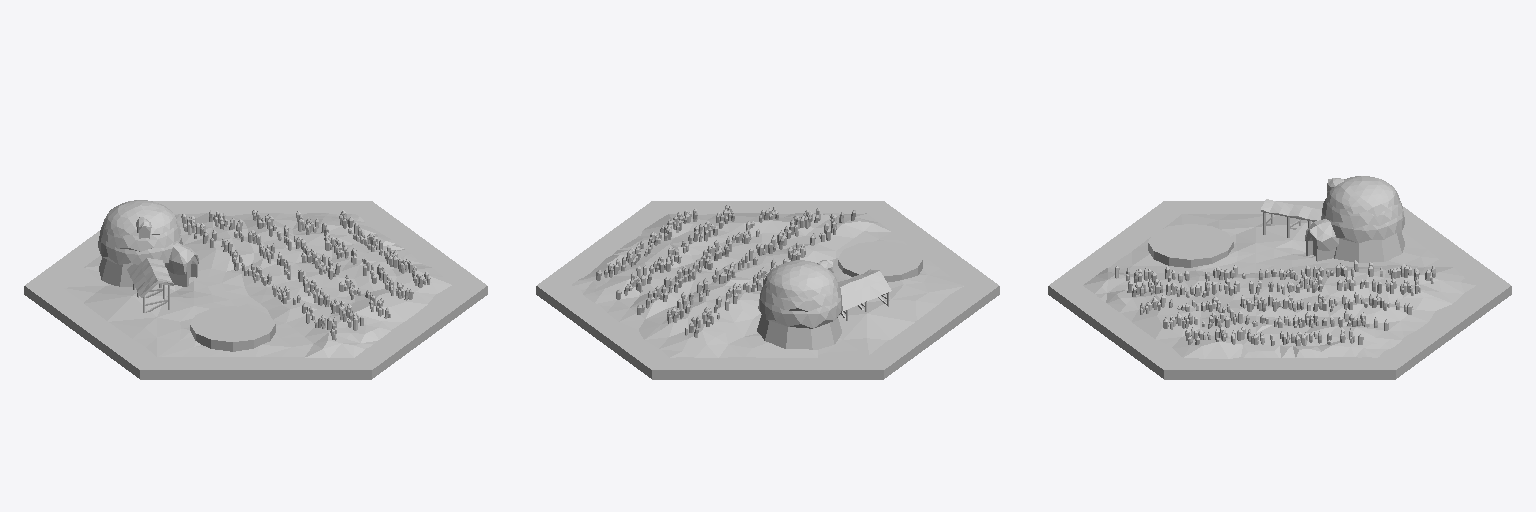
File: farm.obj
3 renders of one model, left to right at view 1: azimuth 30°, elevation 25°; view 2: azimuth 150°, elevation 25°; view 3: azimuth 270°, elevation 25°, orthographic.
Visible parts, largest first — view 1: CombinedFarm_Cylinder.015; view 2: CombinedFarm_Cylinder.015; view 3: CombinedFarm_Cylinder.015.
Part boxes in pixels (x1,y1,x2,y2): CombinedFarm_Cylinder.015: (24,200,487,379); CombinedFarm_Cylinder.015: (536,201,999,379); CombinedFarm_Cylinder.015: (1048,176,1511,379).
Bounding box in the file's own units: 3.98 × 0.85 × 4.6.